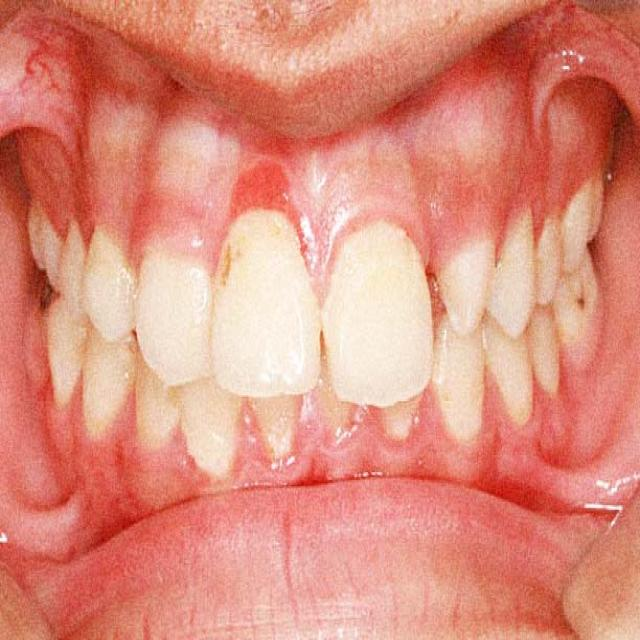caries: (554, 264, 600, 331)
